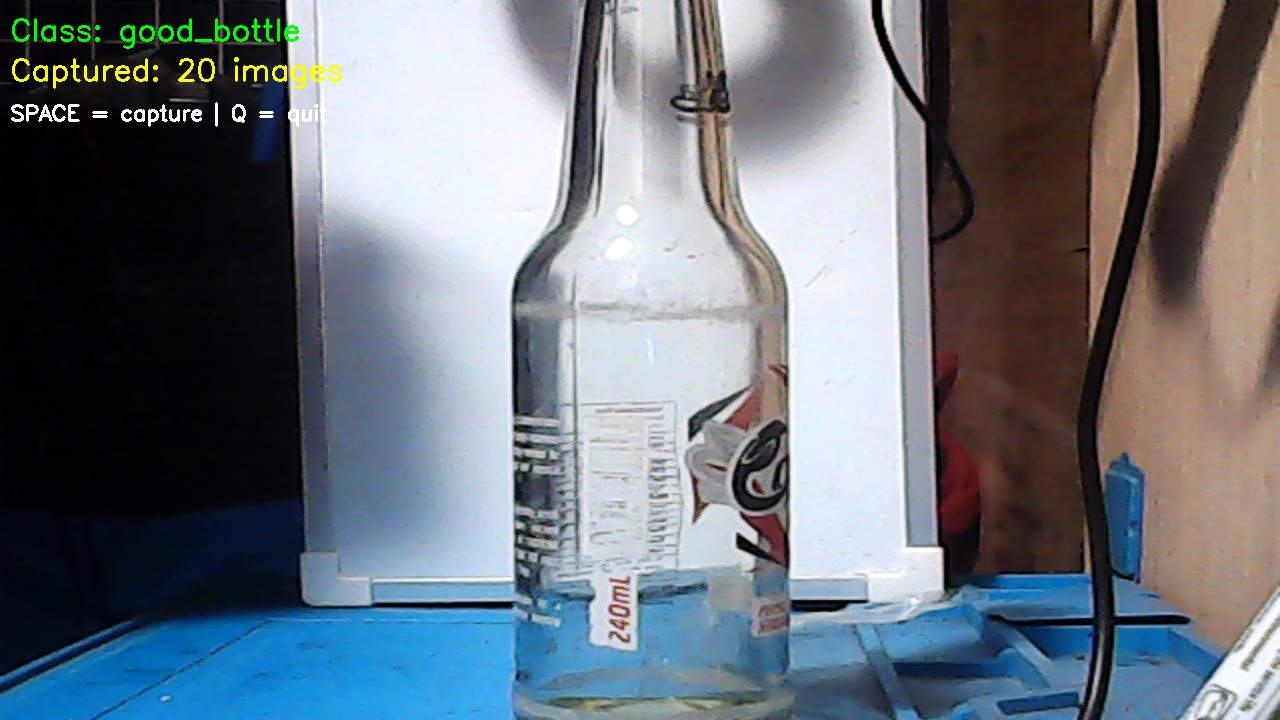good_bottle: (508, 14, 802, 718)
